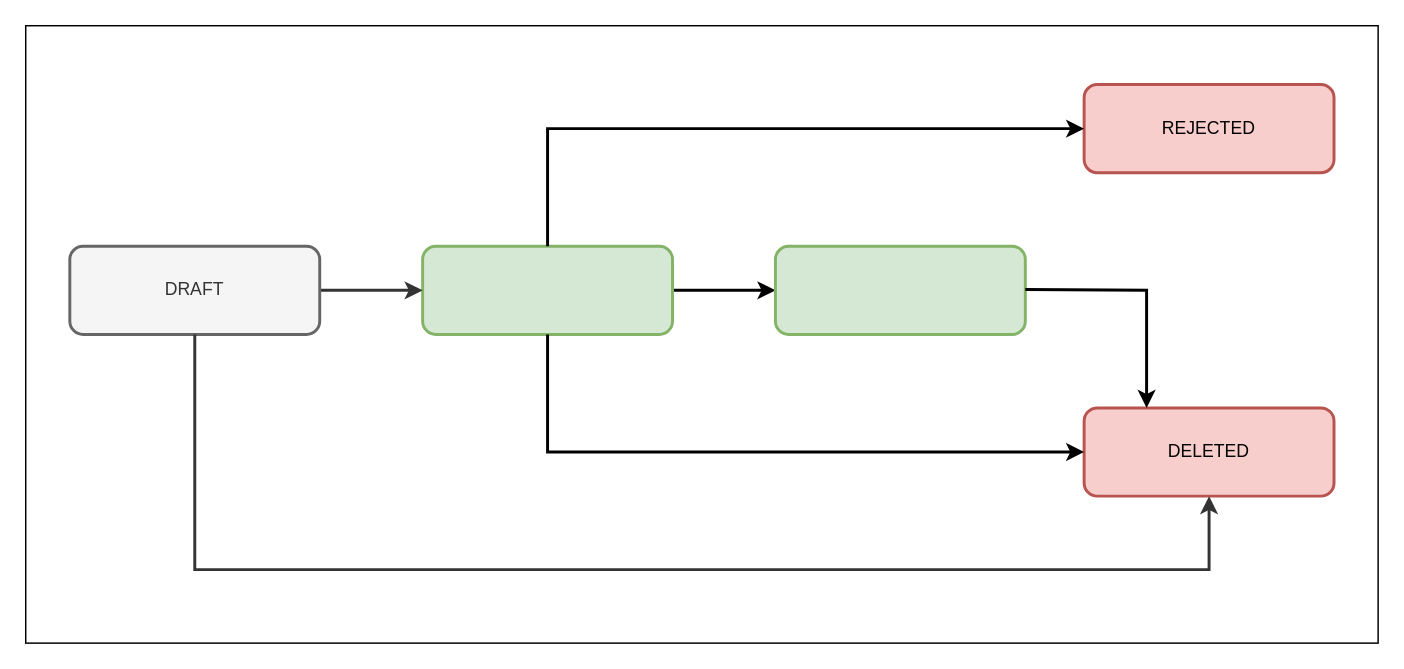
Image size: 1404x669. Some labels were removed from this diagram. Each missing label, with the box of its shape:
APPROVED: (773, 244, 1026, 335)
READY_FOR_VALIDATION: (420, 244, 673, 335)
